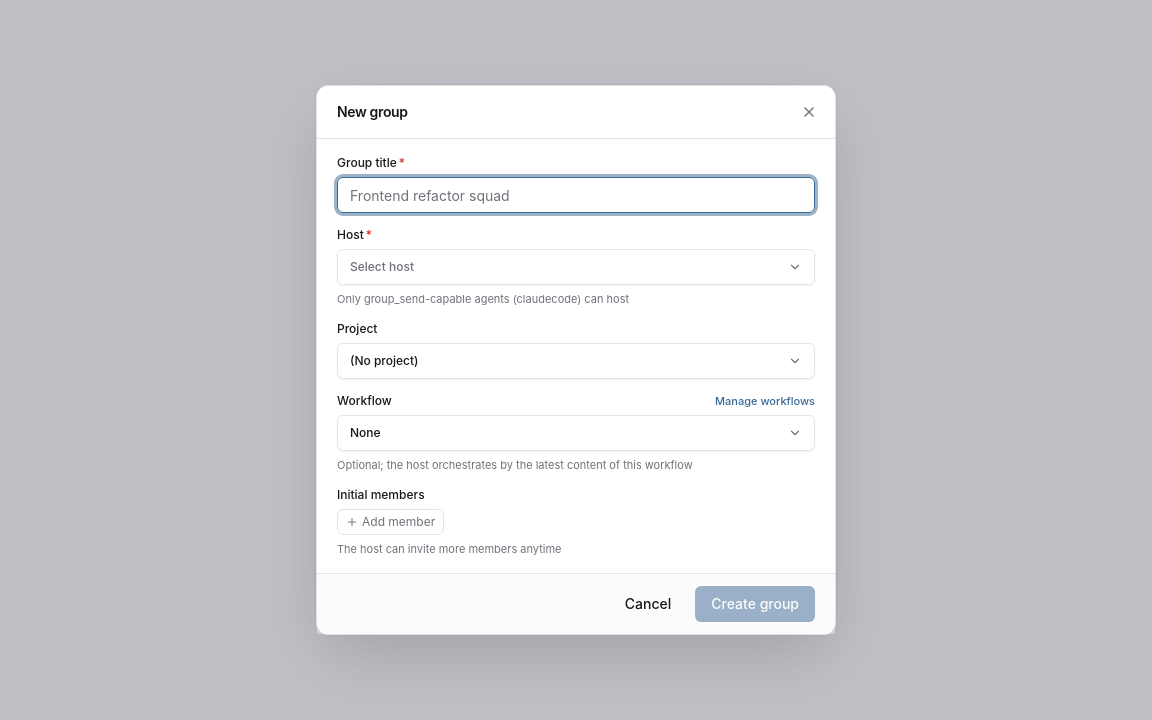
Test: GroupNewDialog › 不支持群聊的 agent 不在 Host 候选里
Click the dropdown labelled "host" at {"x": 382, "y": 266}, box x1=337 y1=249 x2=815 y2=285
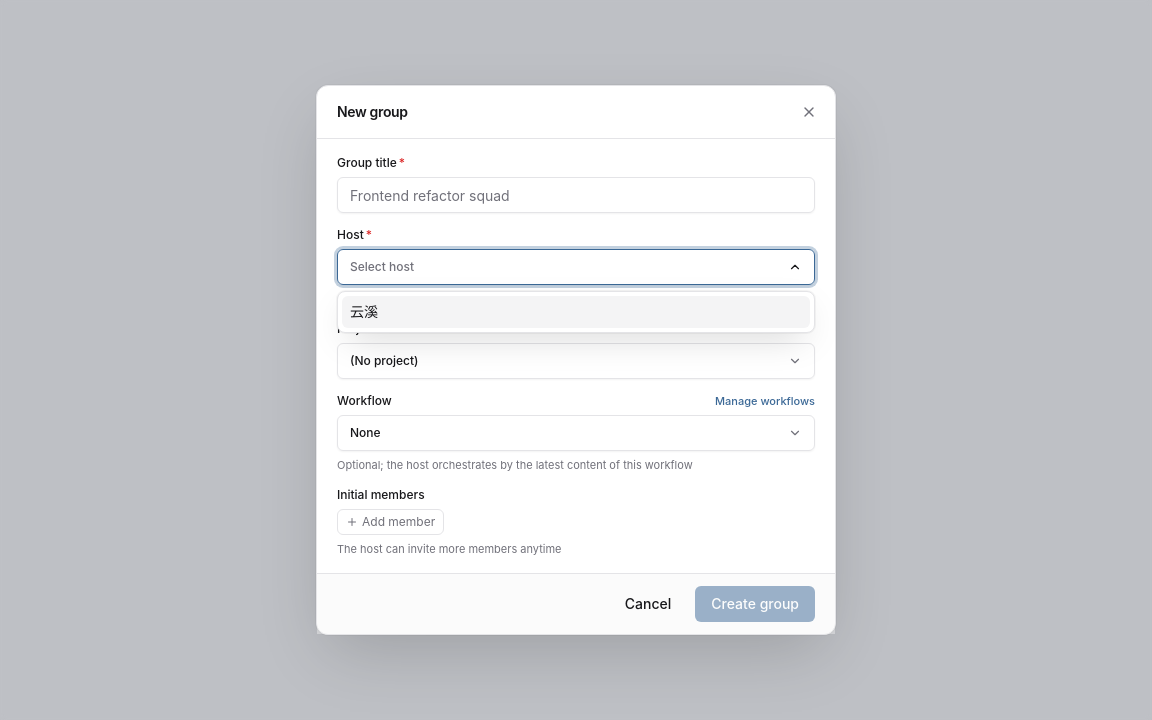
Expected: the option "云溪" is shown, x1=342 y1=296 x2=810 y2=328
